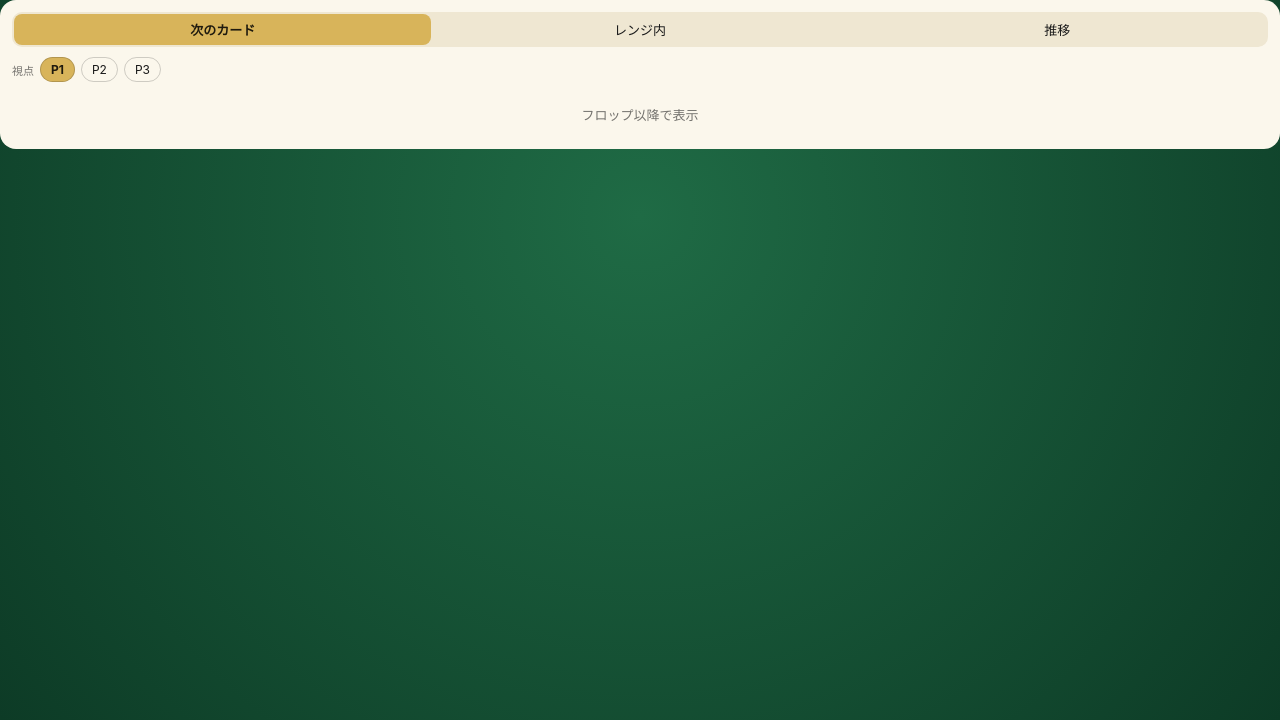
Test: AnalysisTabs › resets the selected range cell when the opponent changes
The width and height of the screenshot is (1280, 720).
Step 1. Click the tab "レンジ内" → x=640, y=30, box [431,14,849,45]
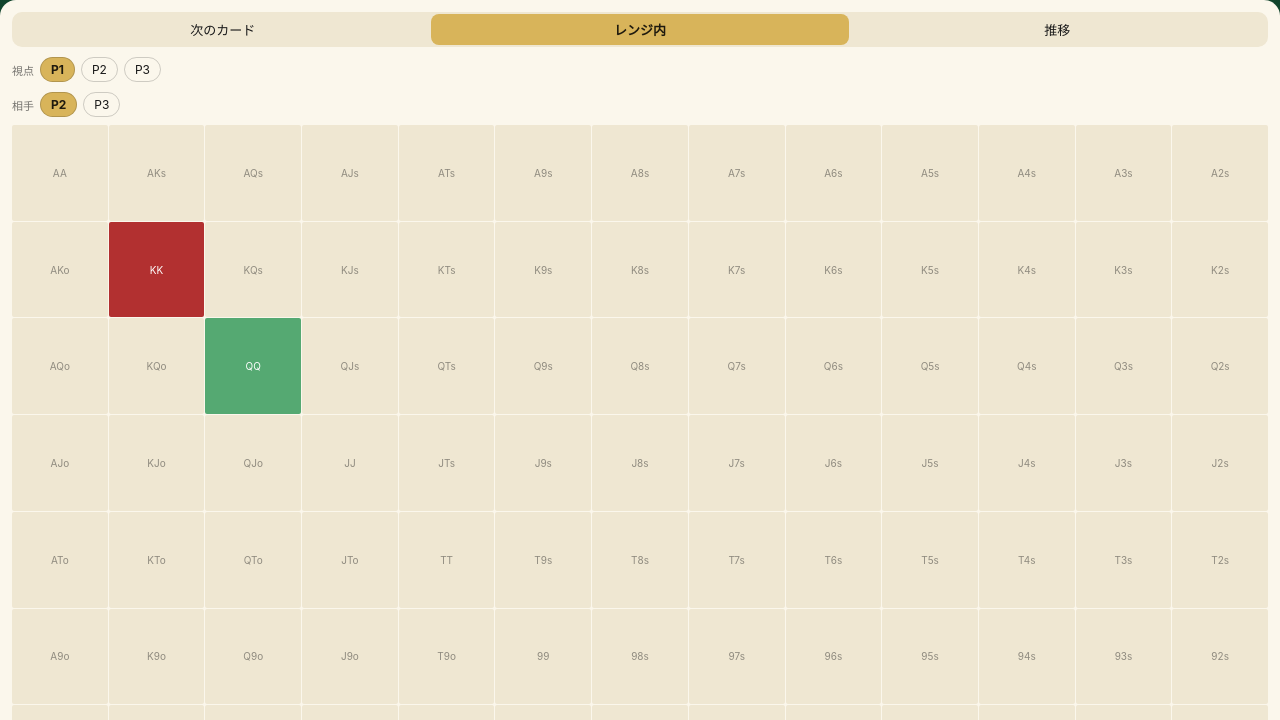
Step 2. Click the text "KK" → x=157, y=270, box [109,222,204,317]
(page scrolled)
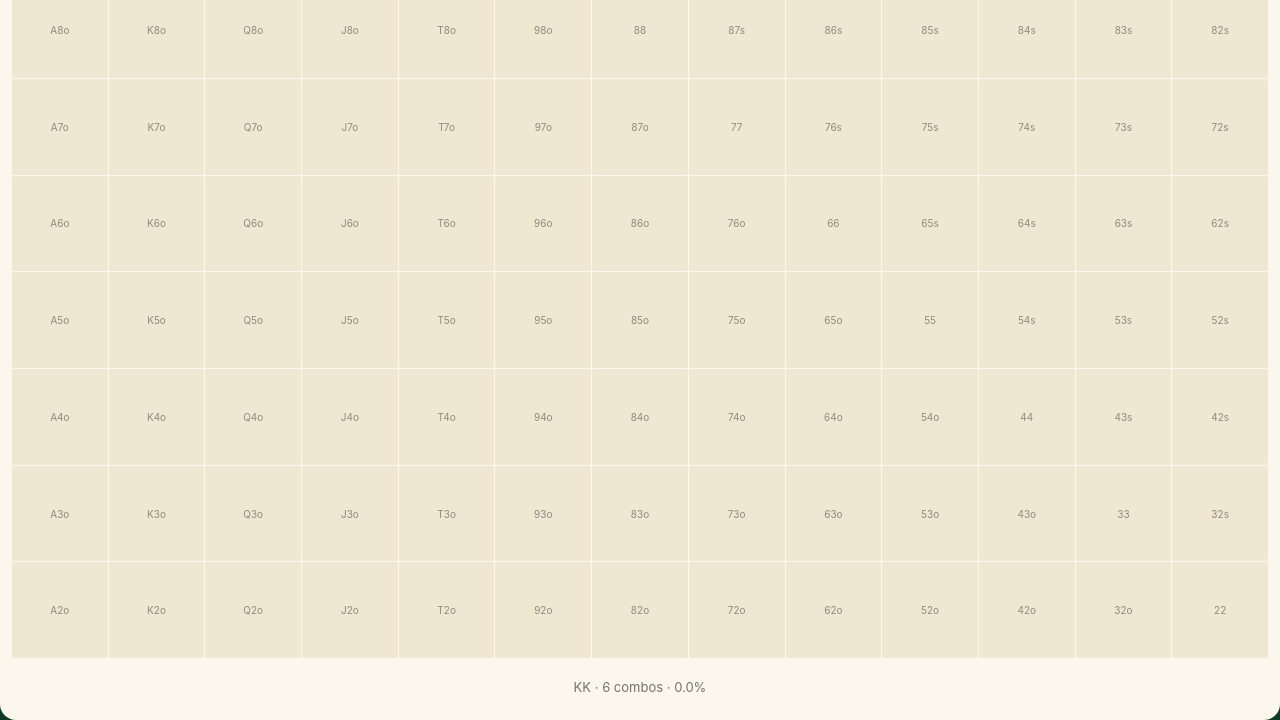
Now the text "KK · 6 combos · 0.0%" is shown, box [574,679,706,695]
